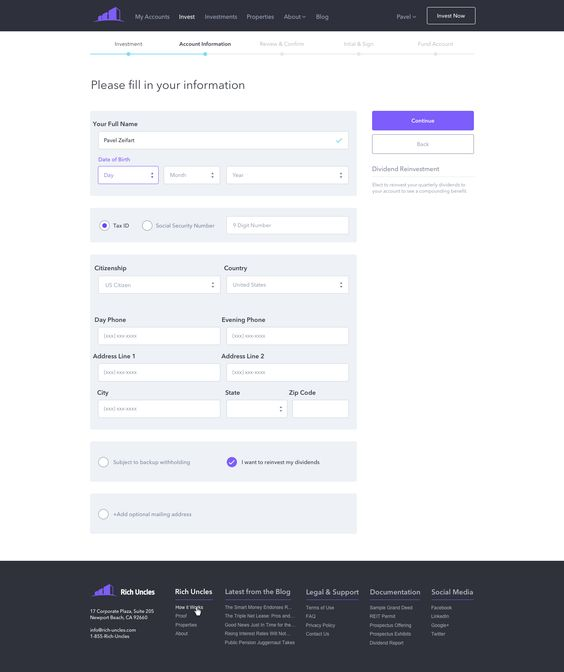_form_: (74, 107, 490, 523)
button: (370, 132, 474, 155), (370, 110, 473, 132), (425, 5, 475, 27)
field: (96, 129, 349, 150), (92, 361, 222, 383), (91, 325, 222, 346), (222, 361, 350, 382), (221, 325, 348, 346), (93, 398, 222, 418), (226, 275, 348, 295), (226, 216, 349, 235), (97, 276, 220, 295), (225, 166, 348, 184), (284, 396, 348, 419), (225, 398, 287, 418), (97, 166, 159, 184), (162, 166, 220, 184)
field_with_label: (92, 119, 351, 152), (89, 315, 224, 348), (223, 264, 350, 297), (93, 265, 222, 297), (91, 388, 224, 419), (221, 316, 350, 347), (91, 354, 224, 384), (222, 353, 352, 383), (96, 155, 161, 186), (286, 389, 351, 420), (223, 389, 285, 420)
radio: (141, 216, 154, 232), (98, 455, 112, 469), (97, 509, 112, 522), (226, 455, 237, 468), (99, 220, 110, 231)
radio_with_label: (224, 452, 320, 470), (95, 507, 191, 524), (95, 453, 190, 470), (138, 214, 214, 233), (96, 218, 130, 232)
